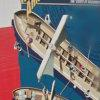Boat: (10, 5, 100, 100)
